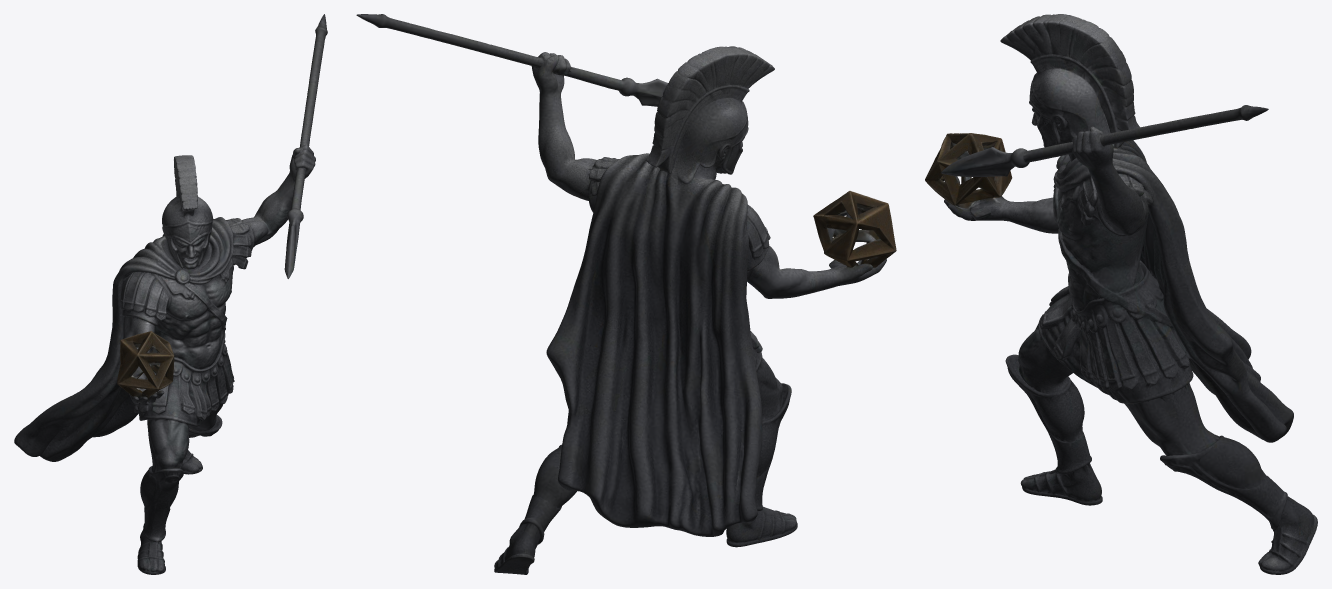
The model's file is visionary-predator.glb.
3 views of the same model, side by side, from view 1: azimuth 30°, elevation 25°; view 2: azimuth 150°, elevation 25°; view 3: azimuth 270°, elevation 25° (orthographic). The views are drawn at different scales.
Bounding box in the file's own units: 1.52 × 1.9 × 1.25.
1 material, 1 textured.
